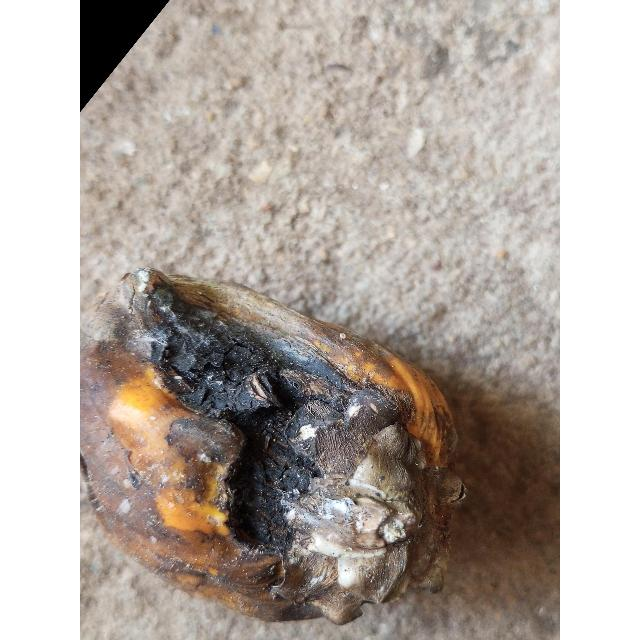damaged: (80, 270, 466, 626)
